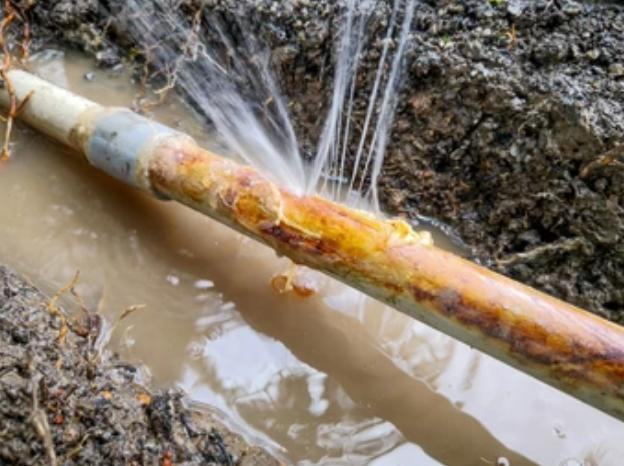pipe burst: (125, 0, 419, 235)
water accumulation: (0, 34, 624, 466)
